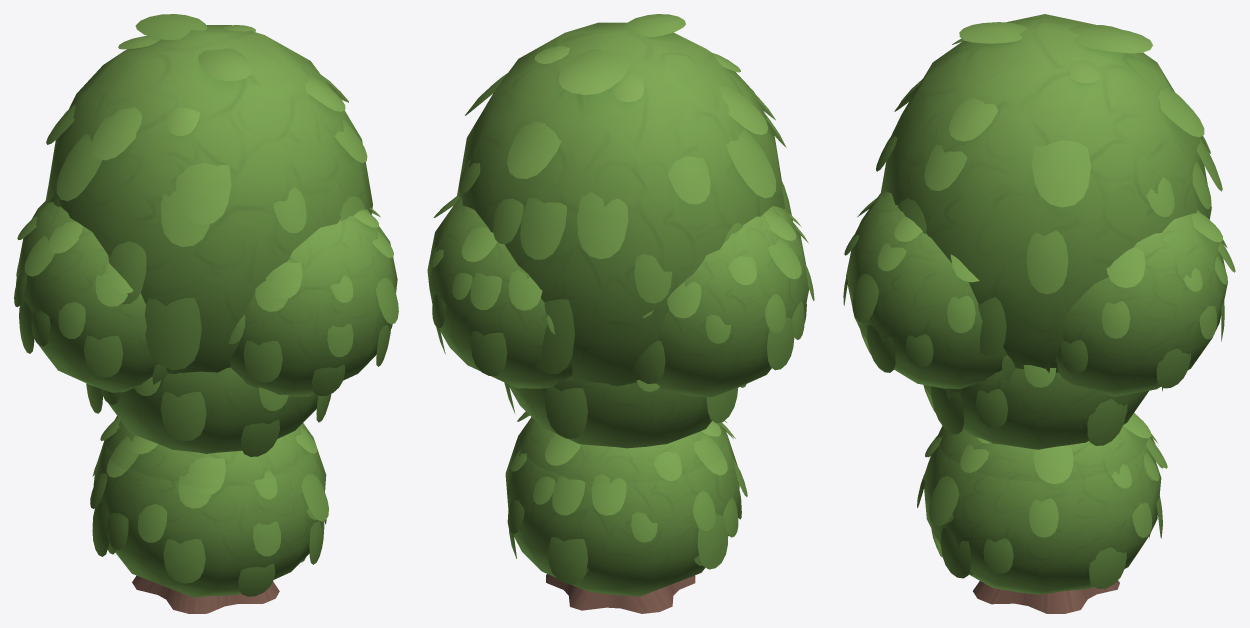
File: treeGroup.fbx
3 views of the same model, side by side, from view 1: azimuth 30°, elevation 25°; view 2: azimuth 150°, elevation 25°; view 3: azimuth 270°, elevation 25° (orthographic).
Parts seen in each view (by area): view 1: bigTree, fluffyTree, bush2, smallTree, bush1; view 2: bigTree, fluffyTree, bush2, smallTree, bush1; view 3: bigTree, fluffyTree, bush2, smallTree, bush1.
Boxes of the visible parts, x1,y1,x2,y2 form: bigTree: [45, 14, 372, 373]; fluffyTree: [14, 200, 398, 613]; bush2: [90, 430, 328, 597]; smallTree: [86, 367, 331, 456]; bush1: [99, 416, 317, 562]; bigTree: [457, 14, 792, 386]; fluffyTree: [427, 195, 814, 613]; bush2: [505, 415, 747, 596]; smallTree: [504, 379, 746, 448]; bush1: [515, 411, 739, 576]; bigTree: [876, 14, 1222, 372]; fluffyTree: [843, 190, 1235, 613]; bush2: [917, 425, 1167, 594]; smallTree: [923, 365, 1162, 449]; bush1: [928, 413, 1163, 583].
Bounding box in the file's own units: 286 × 455 × 292.
